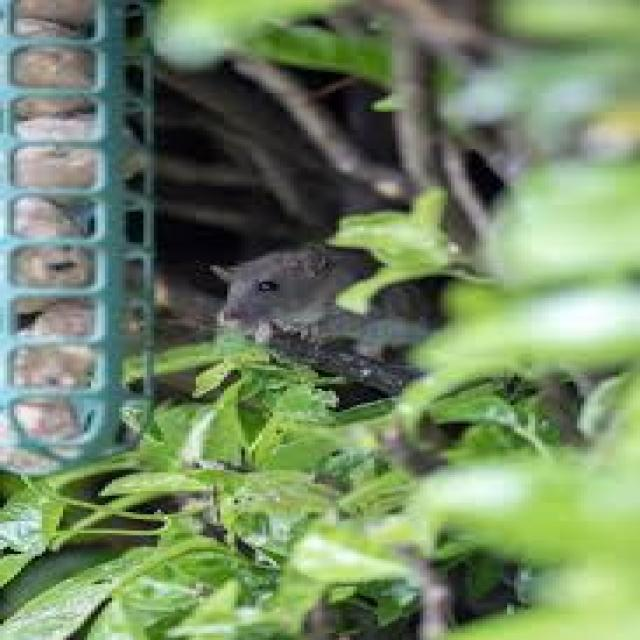Rat: (218, 184, 402, 376)
